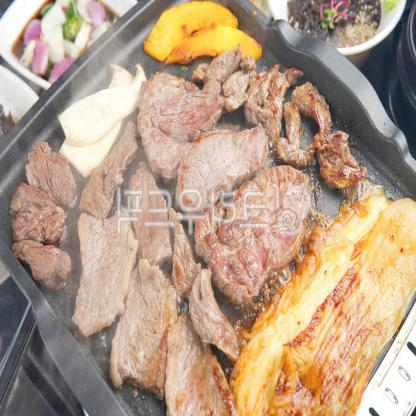Carne: (136, 38, 242, 168), (106, 272, 184, 384), (74, 231, 143, 333), (163, 316, 229, 416), (186, 266, 238, 362), (14, 233, 71, 297), (13, 180, 68, 246), (27, 143, 79, 211), (313, 137, 366, 195), (249, 68, 288, 135), (167, 241, 199, 296), (221, 66, 255, 112), (272, 136, 306, 172)
